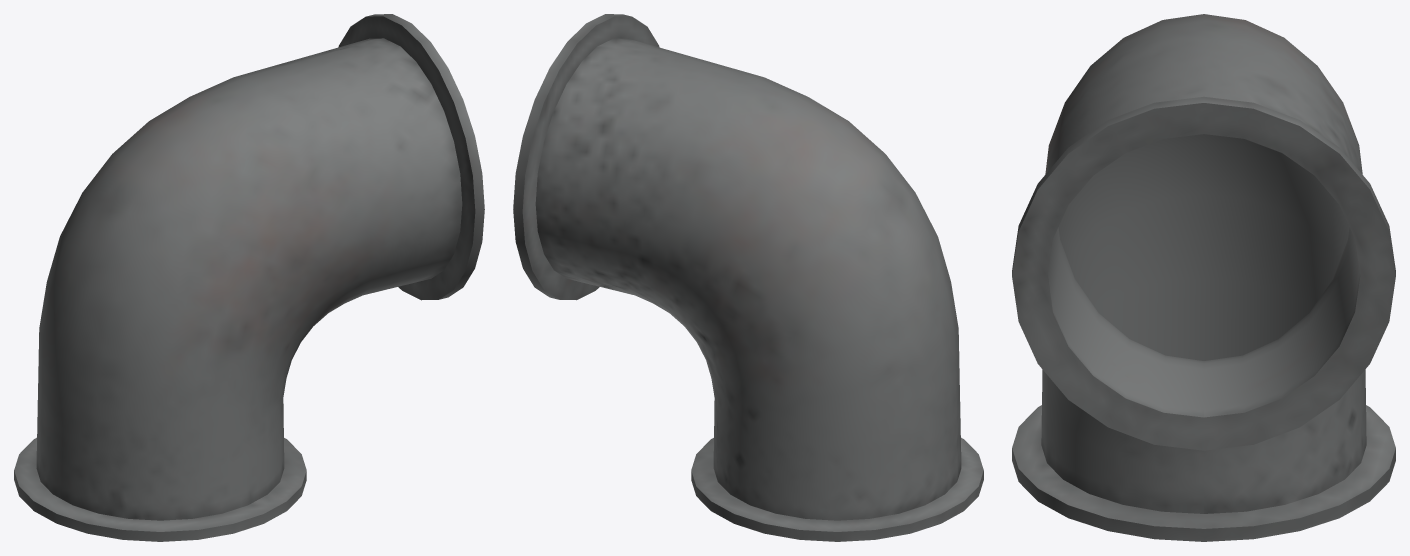
Rendered from CanoCurvo.glb.
The picture shows the model from 3 angles, left to right: view 1: azimuth 30°, elevation 25°; view 2: azimuth 150°, elevation 25°; view 3: azimuth 270°, elevation 25°; orthographic projection. The views are drawn at different scales.
Visible parts, largest first — view 1: Pipe_RoundElbow_ModularPipes_Large_0; view 2: Pipe_RoundElbow_ModularPipes_Large_0; view 3: Pipe_RoundElbow_ModularPipes_Large_0.
Part boxes in pixels (x1,y1,x2,y2): Pipe_RoundElbow_ModularPipes_Large_0: (14, 14, 484, 541); Pipe_RoundElbow_ModularPipes_Large_0: (513, 14, 983, 541); Pipe_RoundElbow_ModularPipes_Large_0: (1012, 14, 1395, 541).
Size of the model in its own units: 3.56 by 3.56 by 2.39.
Materials: 1 (1 with a texture image).
